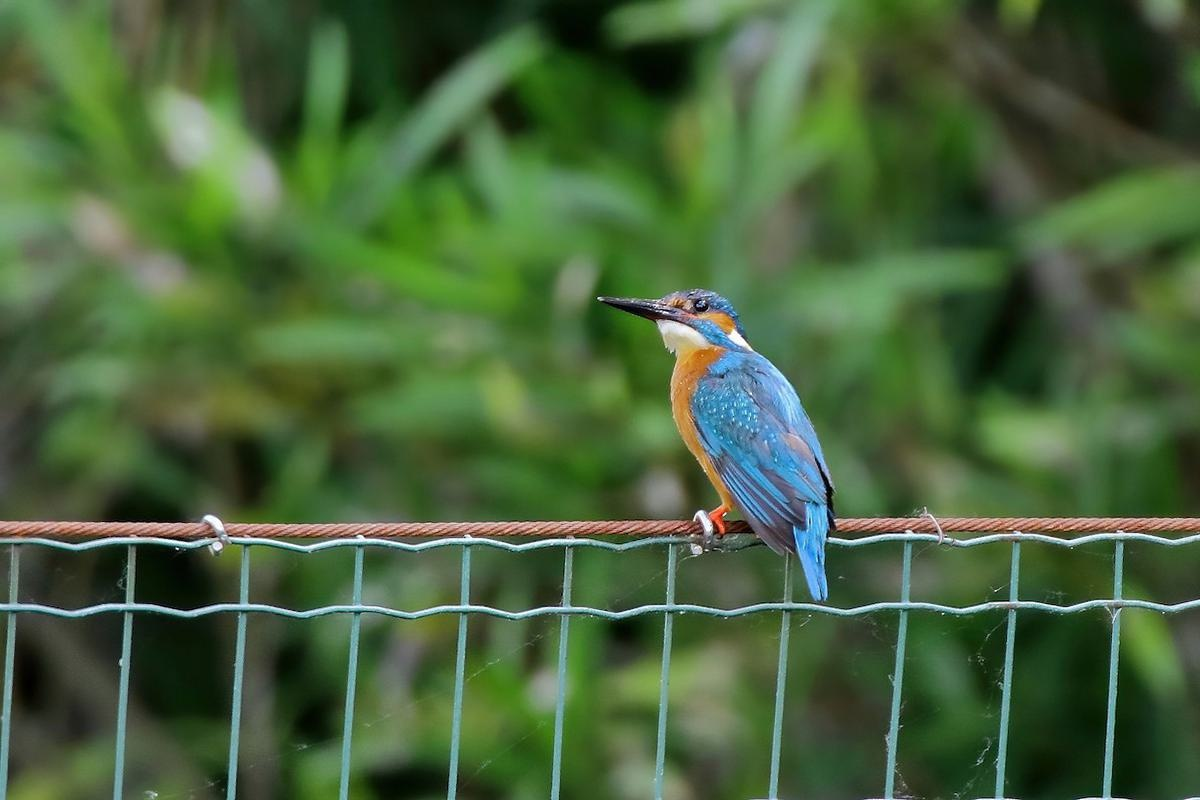kingfisher: (585, 261, 878, 634)
